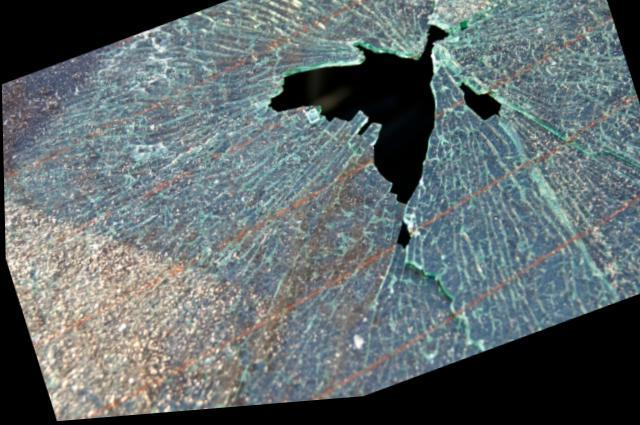glass shatter: (1, 0, 640, 422)
